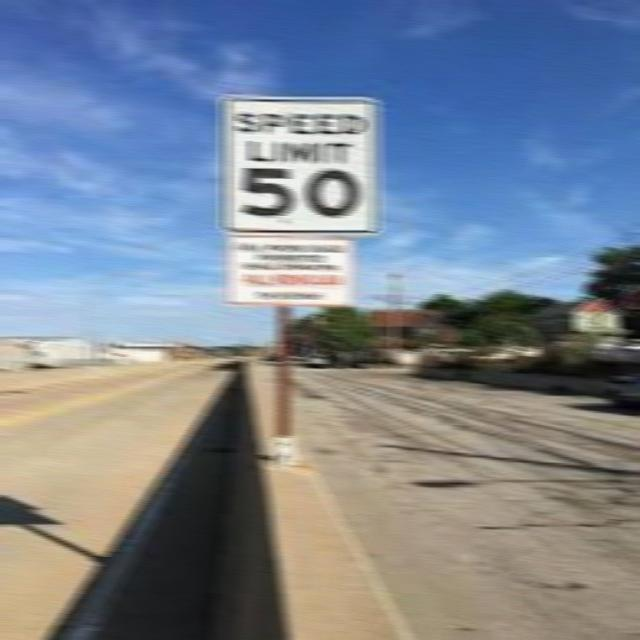speedLimit50: (214, 83, 377, 241)
